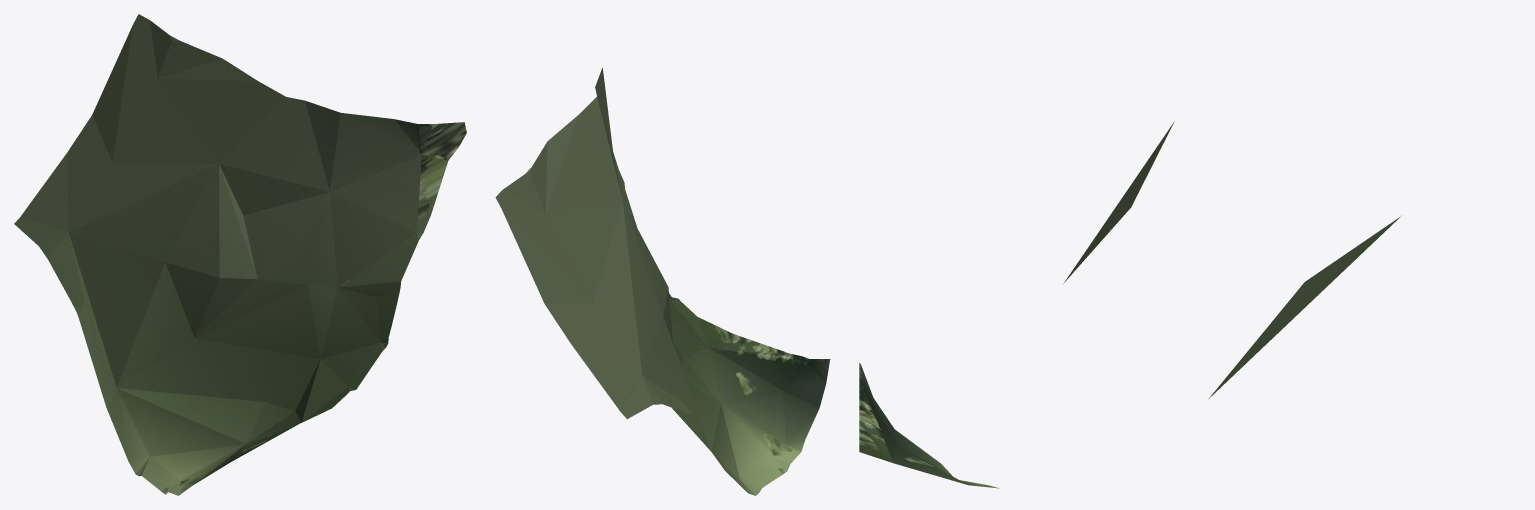
3 renders of one model, left to right at view 1: azimuth 30°, elevation 25°; view 2: azimuth 150°, elevation 25°; view 3: azimuth 270°, elevation 25°, orthographic. The views are drawn at different scales.
Size of the model in its own units: 20.44 by 25.55 by 26.11.
Materials: 3 (3 with a texture image).
